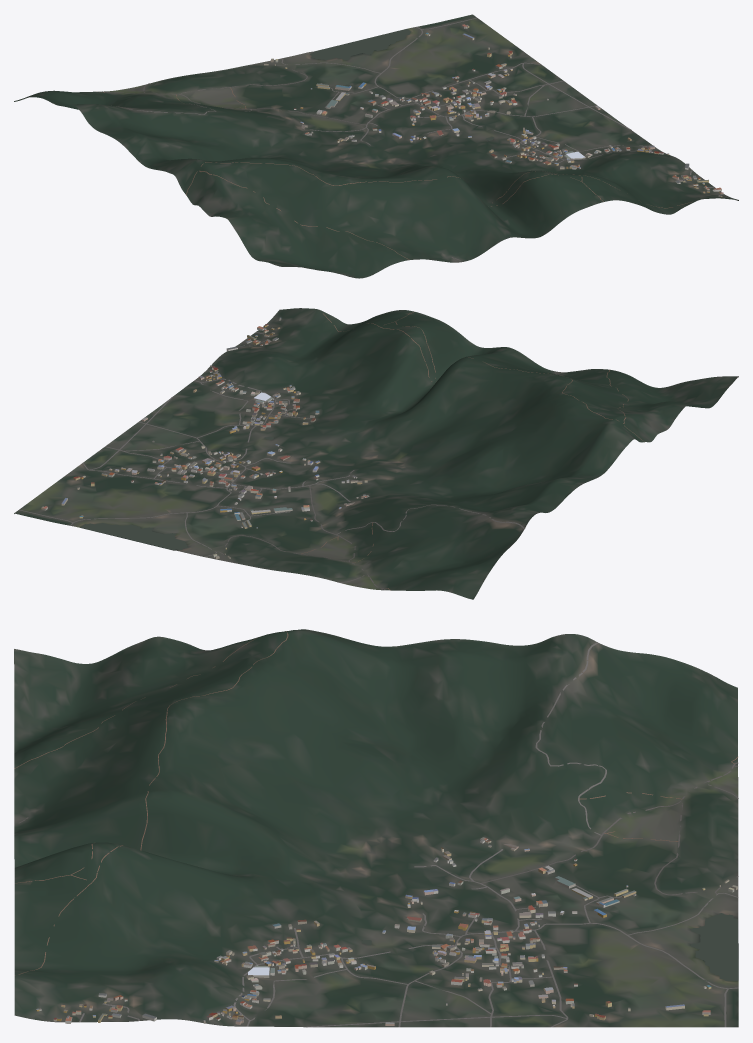
The picture shows the model from 3 angles, top to bottom: view 1: azimuth 30°, elevation 25°; view 2: azimuth 150°, elevation 25°; view 3: azimuth 270°, elevation 25°; orthographic projection. The views are drawn at different scales.
Parts seen in each view (by area): view 1: ground, buildings, roads, water; view 2: ground, buildings, roads, water; view 3: ground, buildings, roads, water.
Boxes of the visible parts, x1=… form: ground: x1=14, y1=14, x2=738, y2=278; buildings: x1=264, y1=24, x2=723, y2=197; roads: x1=96, y1=17, x2=714, y2=261; water: x1=310, y1=29, x2=493, y2=140; ground: x1=14, y1=308, x2=738, y2=599; buildings: x1=41, y1=317, x2=369, y2=559; roads: x1=19, y1=311, x2=644, y2=590; water: x1=80, y1=436, x2=273, y2=549; ground: x1=14, y1=629, x2=738, y2=1027; buildings: x1=36, y1=837, x2=737, y2=1025; roads: x1=14, y1=631, x2=738, y2=1027; water: x1=362, y1=913, x2=737, y2=980.
Bounding box in the file's own units: 1405 × 232 × 1404.
